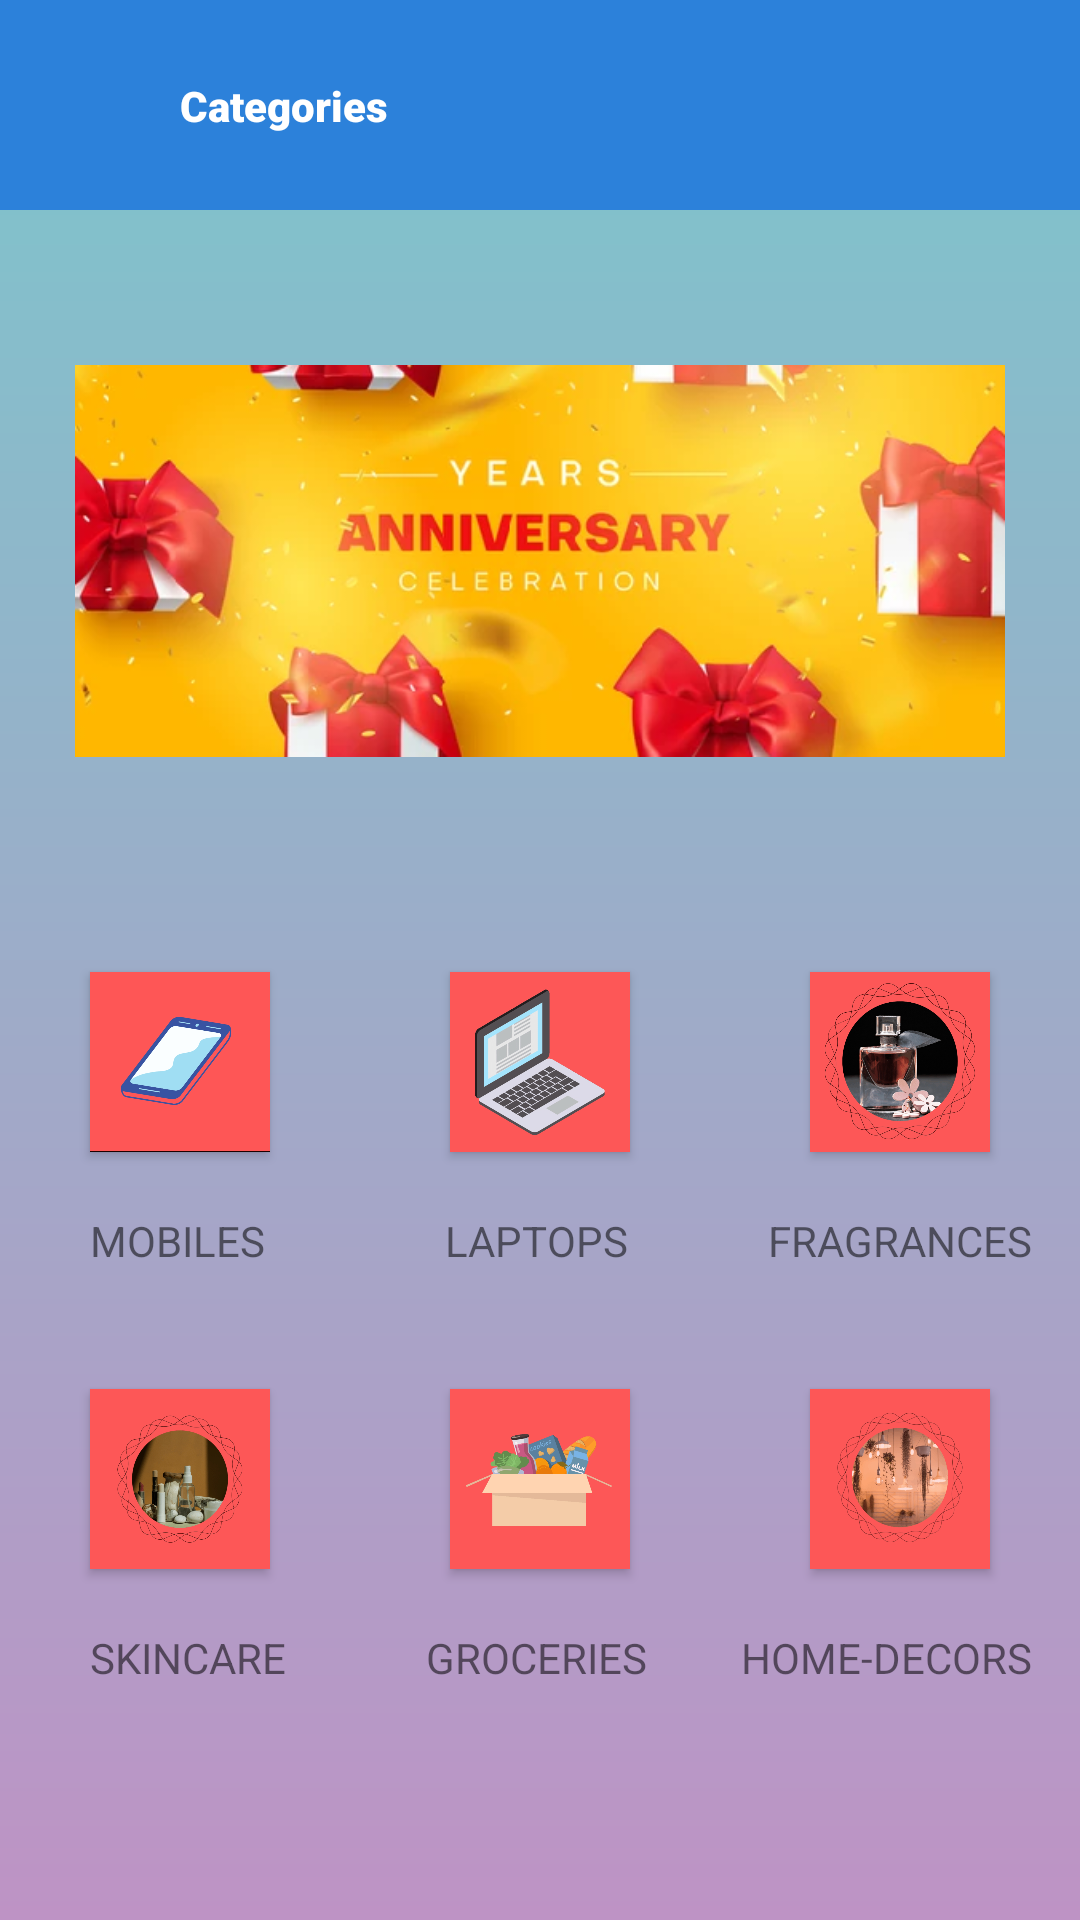

Where icons sit on this 1080*1920 app screen, as (x1, y1, x2, y2):
frgarances: (810, 972, 990, 1152)
